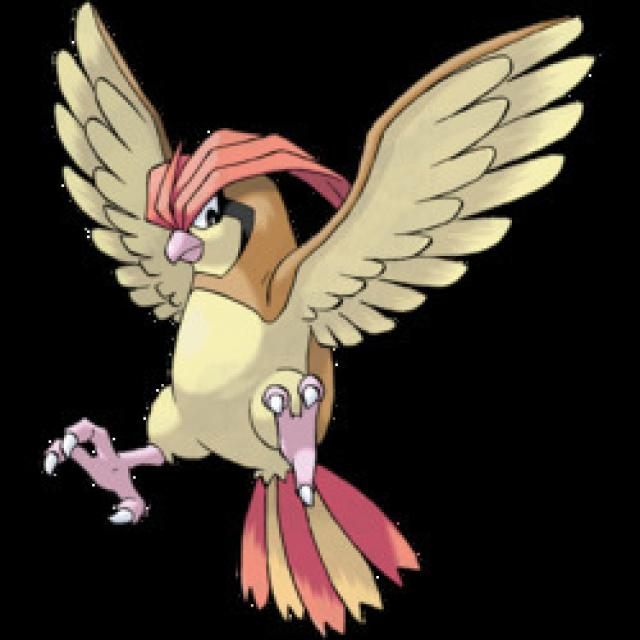Pidgeotto: (54, 48, 394, 615)
